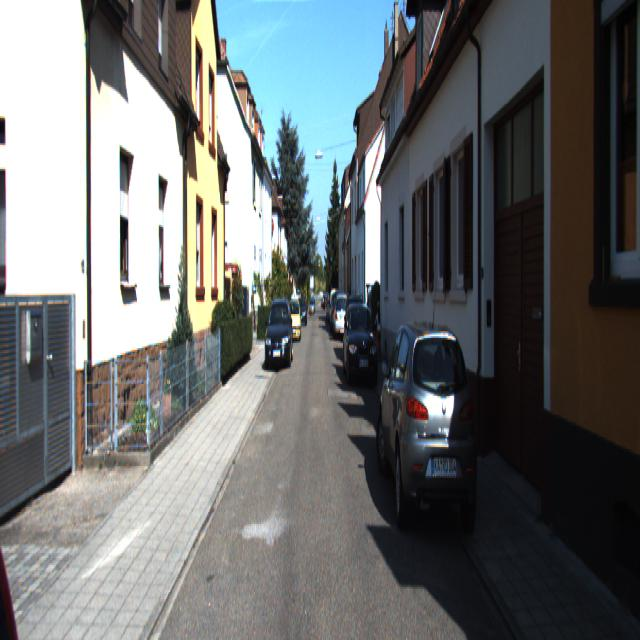Car: (377, 314, 479, 548), (342, 302, 378, 393), (265, 300, 293, 378), (334, 293, 351, 342), (286, 298, 301, 342)
